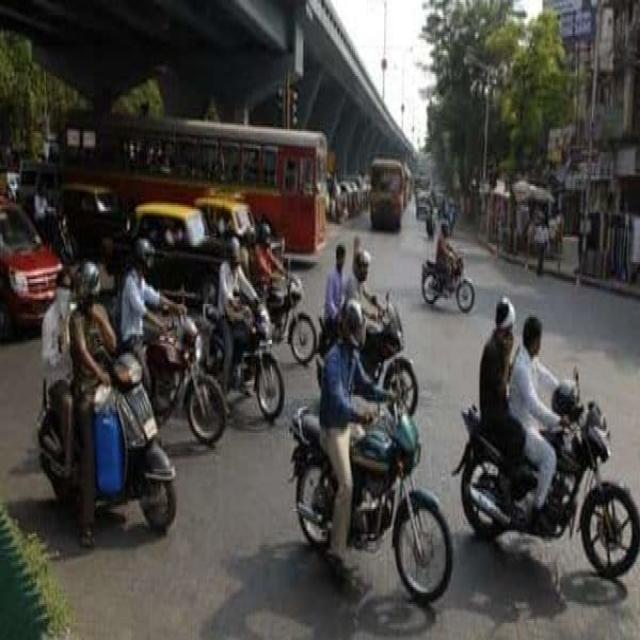Vehicles: (59, 100, 341, 268), (445, 401, 640, 599), (298, 400, 455, 608), (44, 348, 174, 542), (129, 308, 232, 464), (319, 298, 430, 414), (202, 280, 295, 418), (1, 188, 79, 349), (126, 202, 230, 312), (258, 270, 332, 364), (369, 155, 417, 251), (423, 253, 480, 326), (425, 213, 439, 245)
